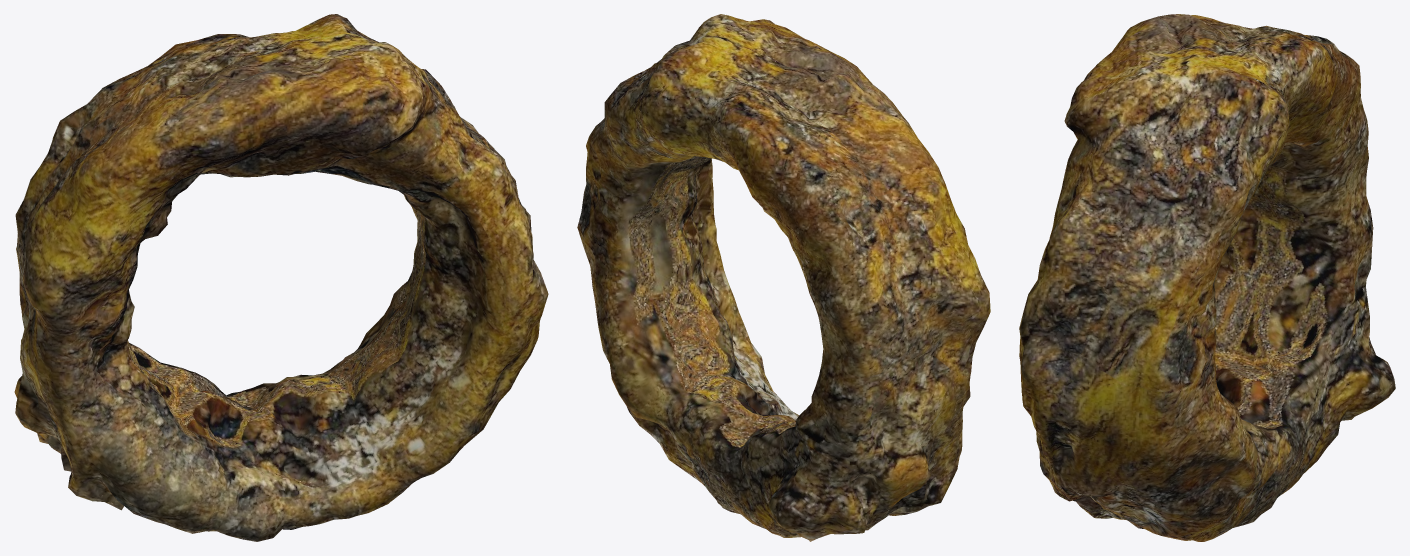
Rendered from EMB_IRON-RING-KLD-4-3208.glb.
The picture shows the model from 3 angles, left to right: view 1: azimuth 30°, elevation 25°; view 2: azimuth 150°, elevation 25°; view 3: azimuth 270°, elevation 25°; orthographic projection. The views are drawn at different scales.
Parts seen in each view (by area): view 1: EMB_IRON-RING-KLD-4-3208; view 2: EMB_IRON-RING-KLD-4-3208; view 3: EMB_IRON-RING-KLD-4-3208.
Part boxes in pixels (x1=…): EMB_IRON-RING-KLD-4-3208: x1=14, y1=14, x2=548, y2=541; EMB_IRON-RING-KLD-4-3208: x1=577, y1=14, x2=990, y2=541; EMB_IRON-RING-KLD-4-3208: x1=1019, y1=14, x2=1395, y2=541.
Bounding box in the file's own units: 0.0479 × 0.0482 × 0.0336.
Materials: 1 (1 with a texture image).
